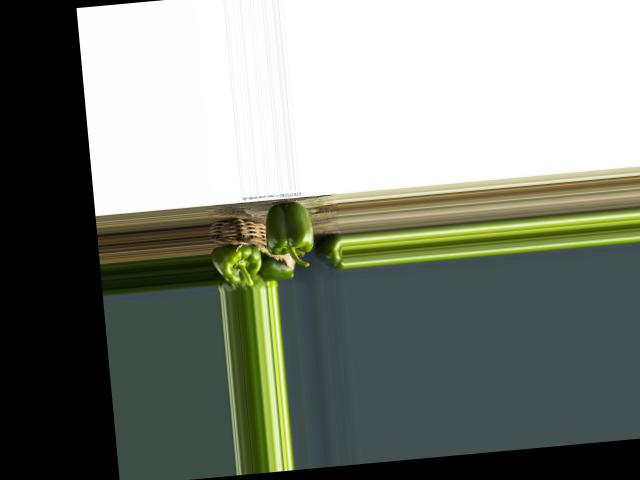bell_pepper: (323, 239, 345, 270)
